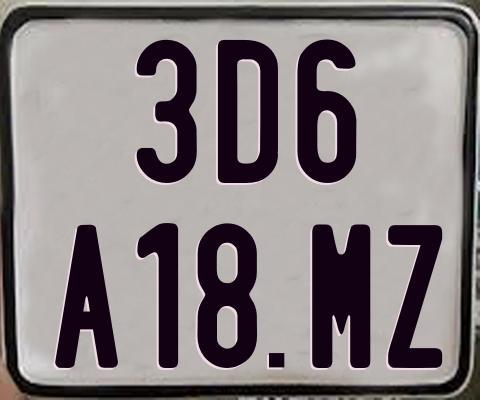1: (135, 221, 180, 372)
3: (134, 39, 197, 187)
6: (296, 37, 359, 182)
8: (196, 222, 260, 367)
A: (54, 223, 118, 369)
D: (215, 37, 280, 184)
M: (309, 221, 370, 367)
Z: (386, 223, 440, 370)
